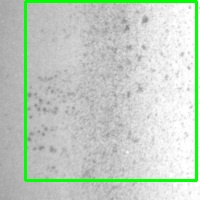pitted_surface: (25, 1, 196, 180)
